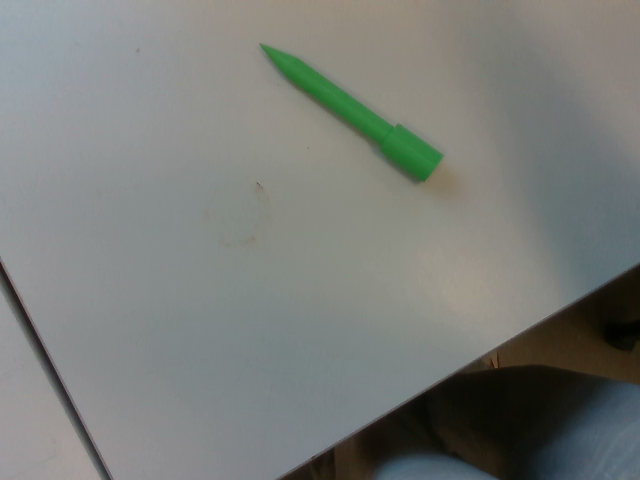Probe: (255, 37, 450, 189)
